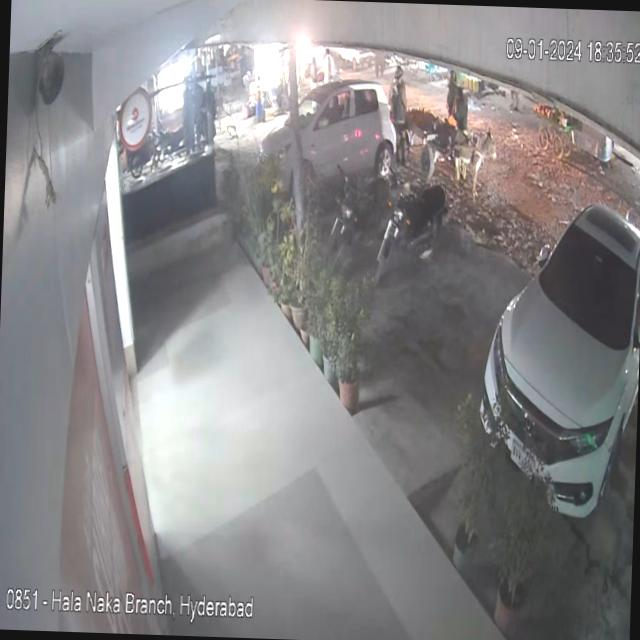Car: (475, 180, 640, 538), (256, 78, 414, 205)
Motorcycle: (377, 163, 452, 294), (328, 171, 388, 275)
